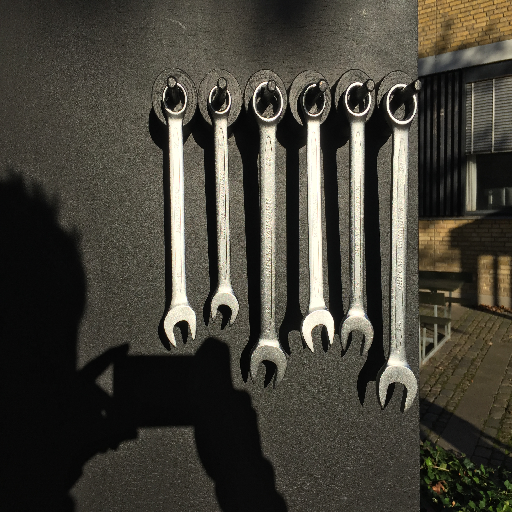bottom: (376, 358, 419, 413), (247, 337, 288, 390), (338, 307, 375, 358), (161, 302, 199, 347), (300, 308, 336, 352), (209, 287, 240, 328)
top: (381, 81, 421, 130), (250, 81, 285, 126), (341, 81, 374, 121), (298, 82, 329, 123), (160, 81, 191, 119), (206, 83, 233, 120)
